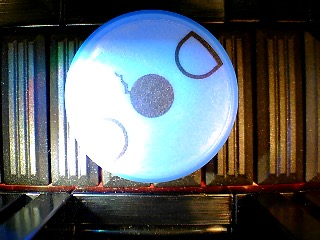CRACK: (64, 9, 239, 183)
